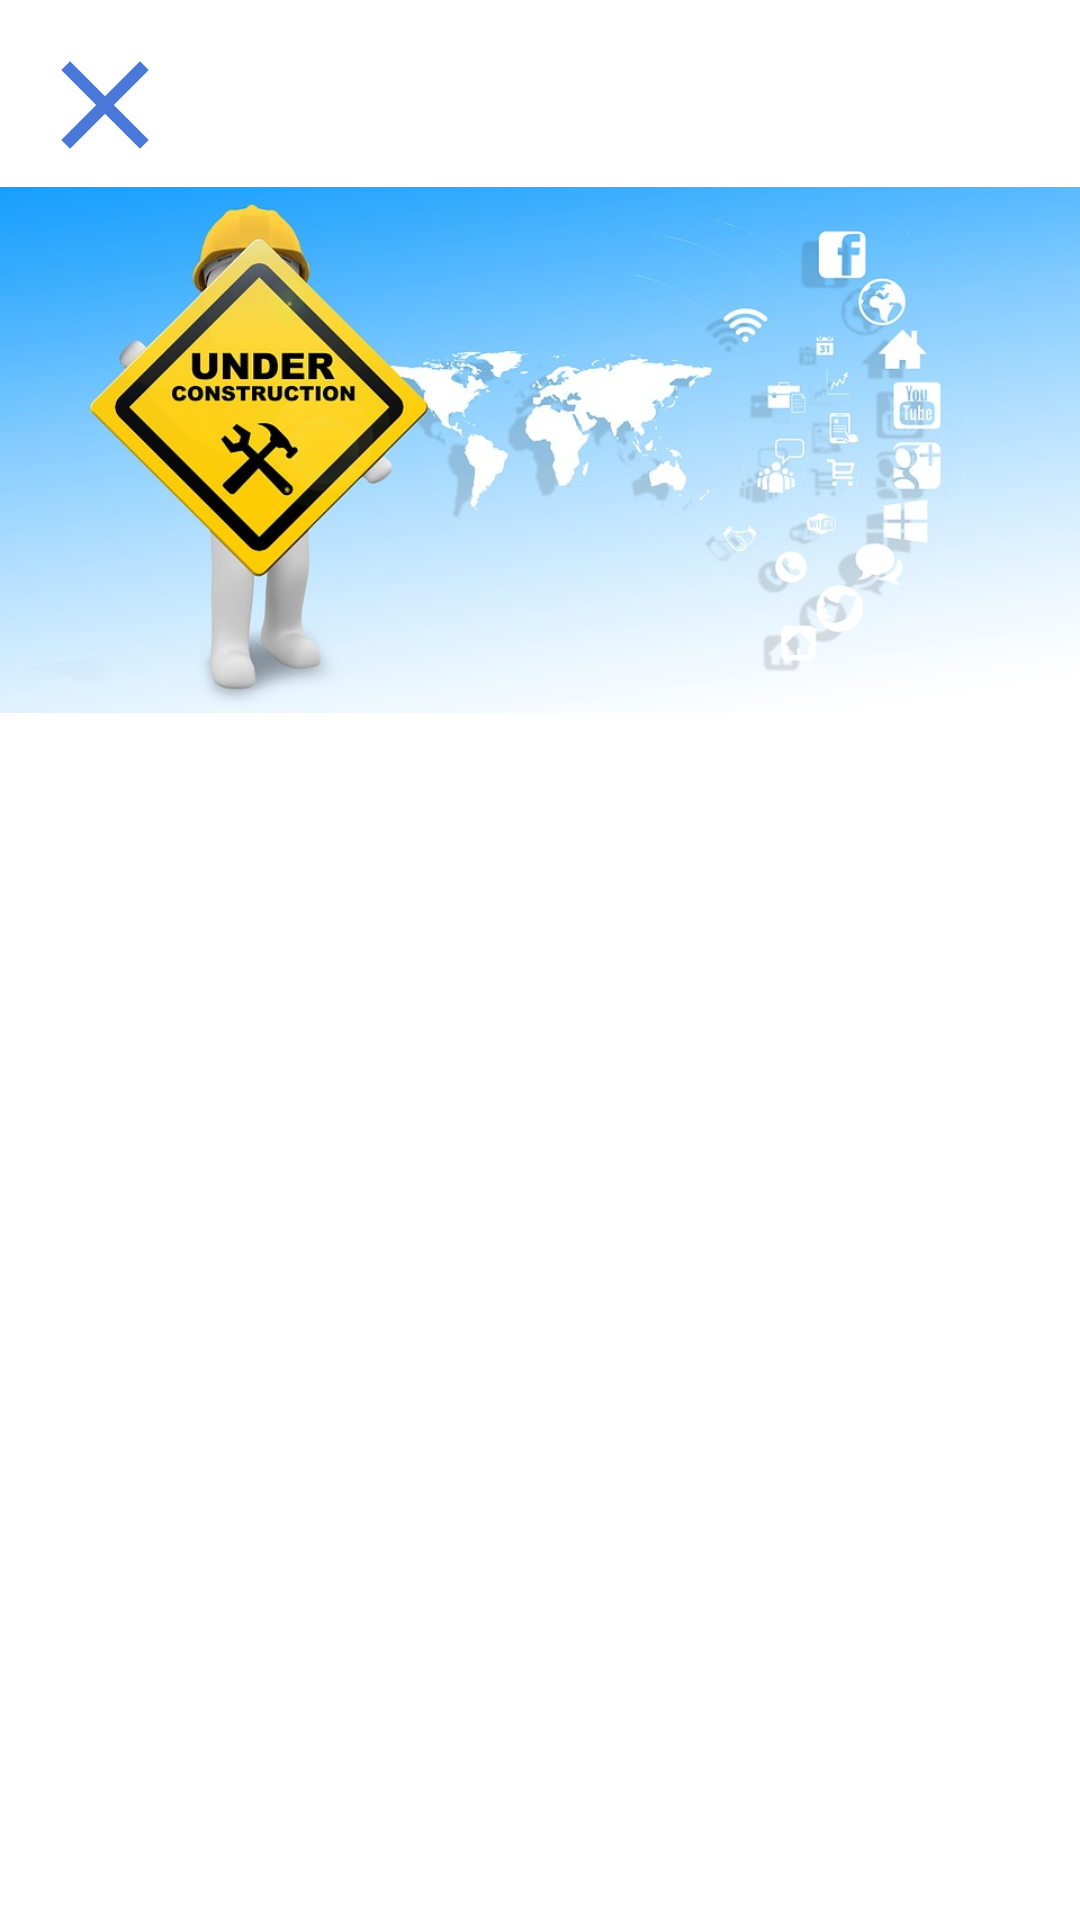

Named icons in this screenshot (1080 x 1920) and their centers, point (x, y):
close: point (105, 105)
